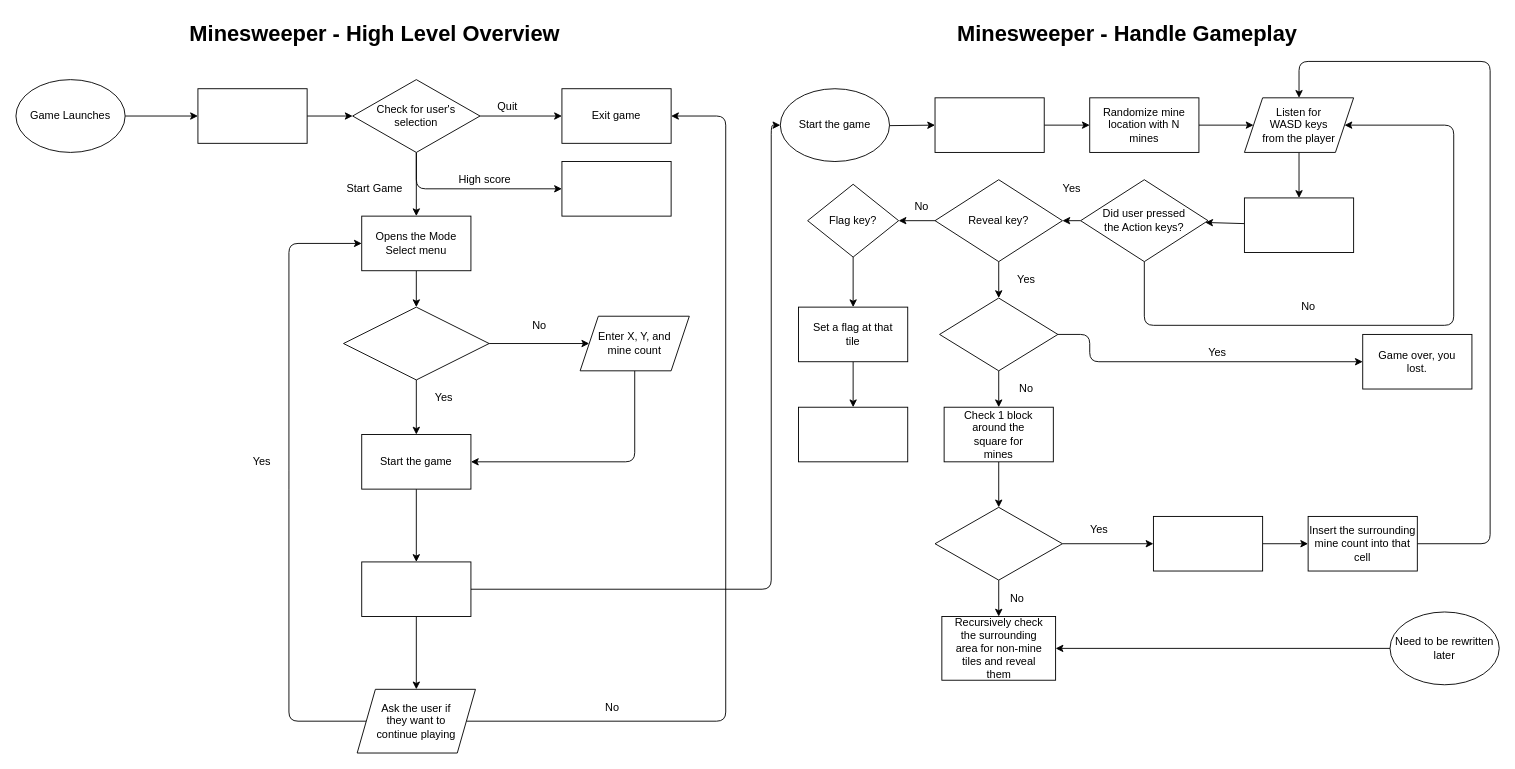
This 1515x769 diagram has some shape labels left out. Here are the shapes that lost their labels. From the top down, the centre of each, then its label:
the point at 252,115: Shows main menu, including Start game, High Score, and Quit
the point at 989,124: Draw the game board of size (X, Y)
the point at 616,188: Fetch the high score data
the point at 1299,225: Moves the cursor according to the user's inputs
the point at 416,343: Did user chose a predefined mode?
the point at 998,334: Does that cell contains a mine?
the point at 853,434: Disable ability to reveal that tile
the point at 998,543: Are there any mines nearby?
the point at 1208,543: Count the mines nearby in the cells
the point at 416,589: HandleGameplay()
